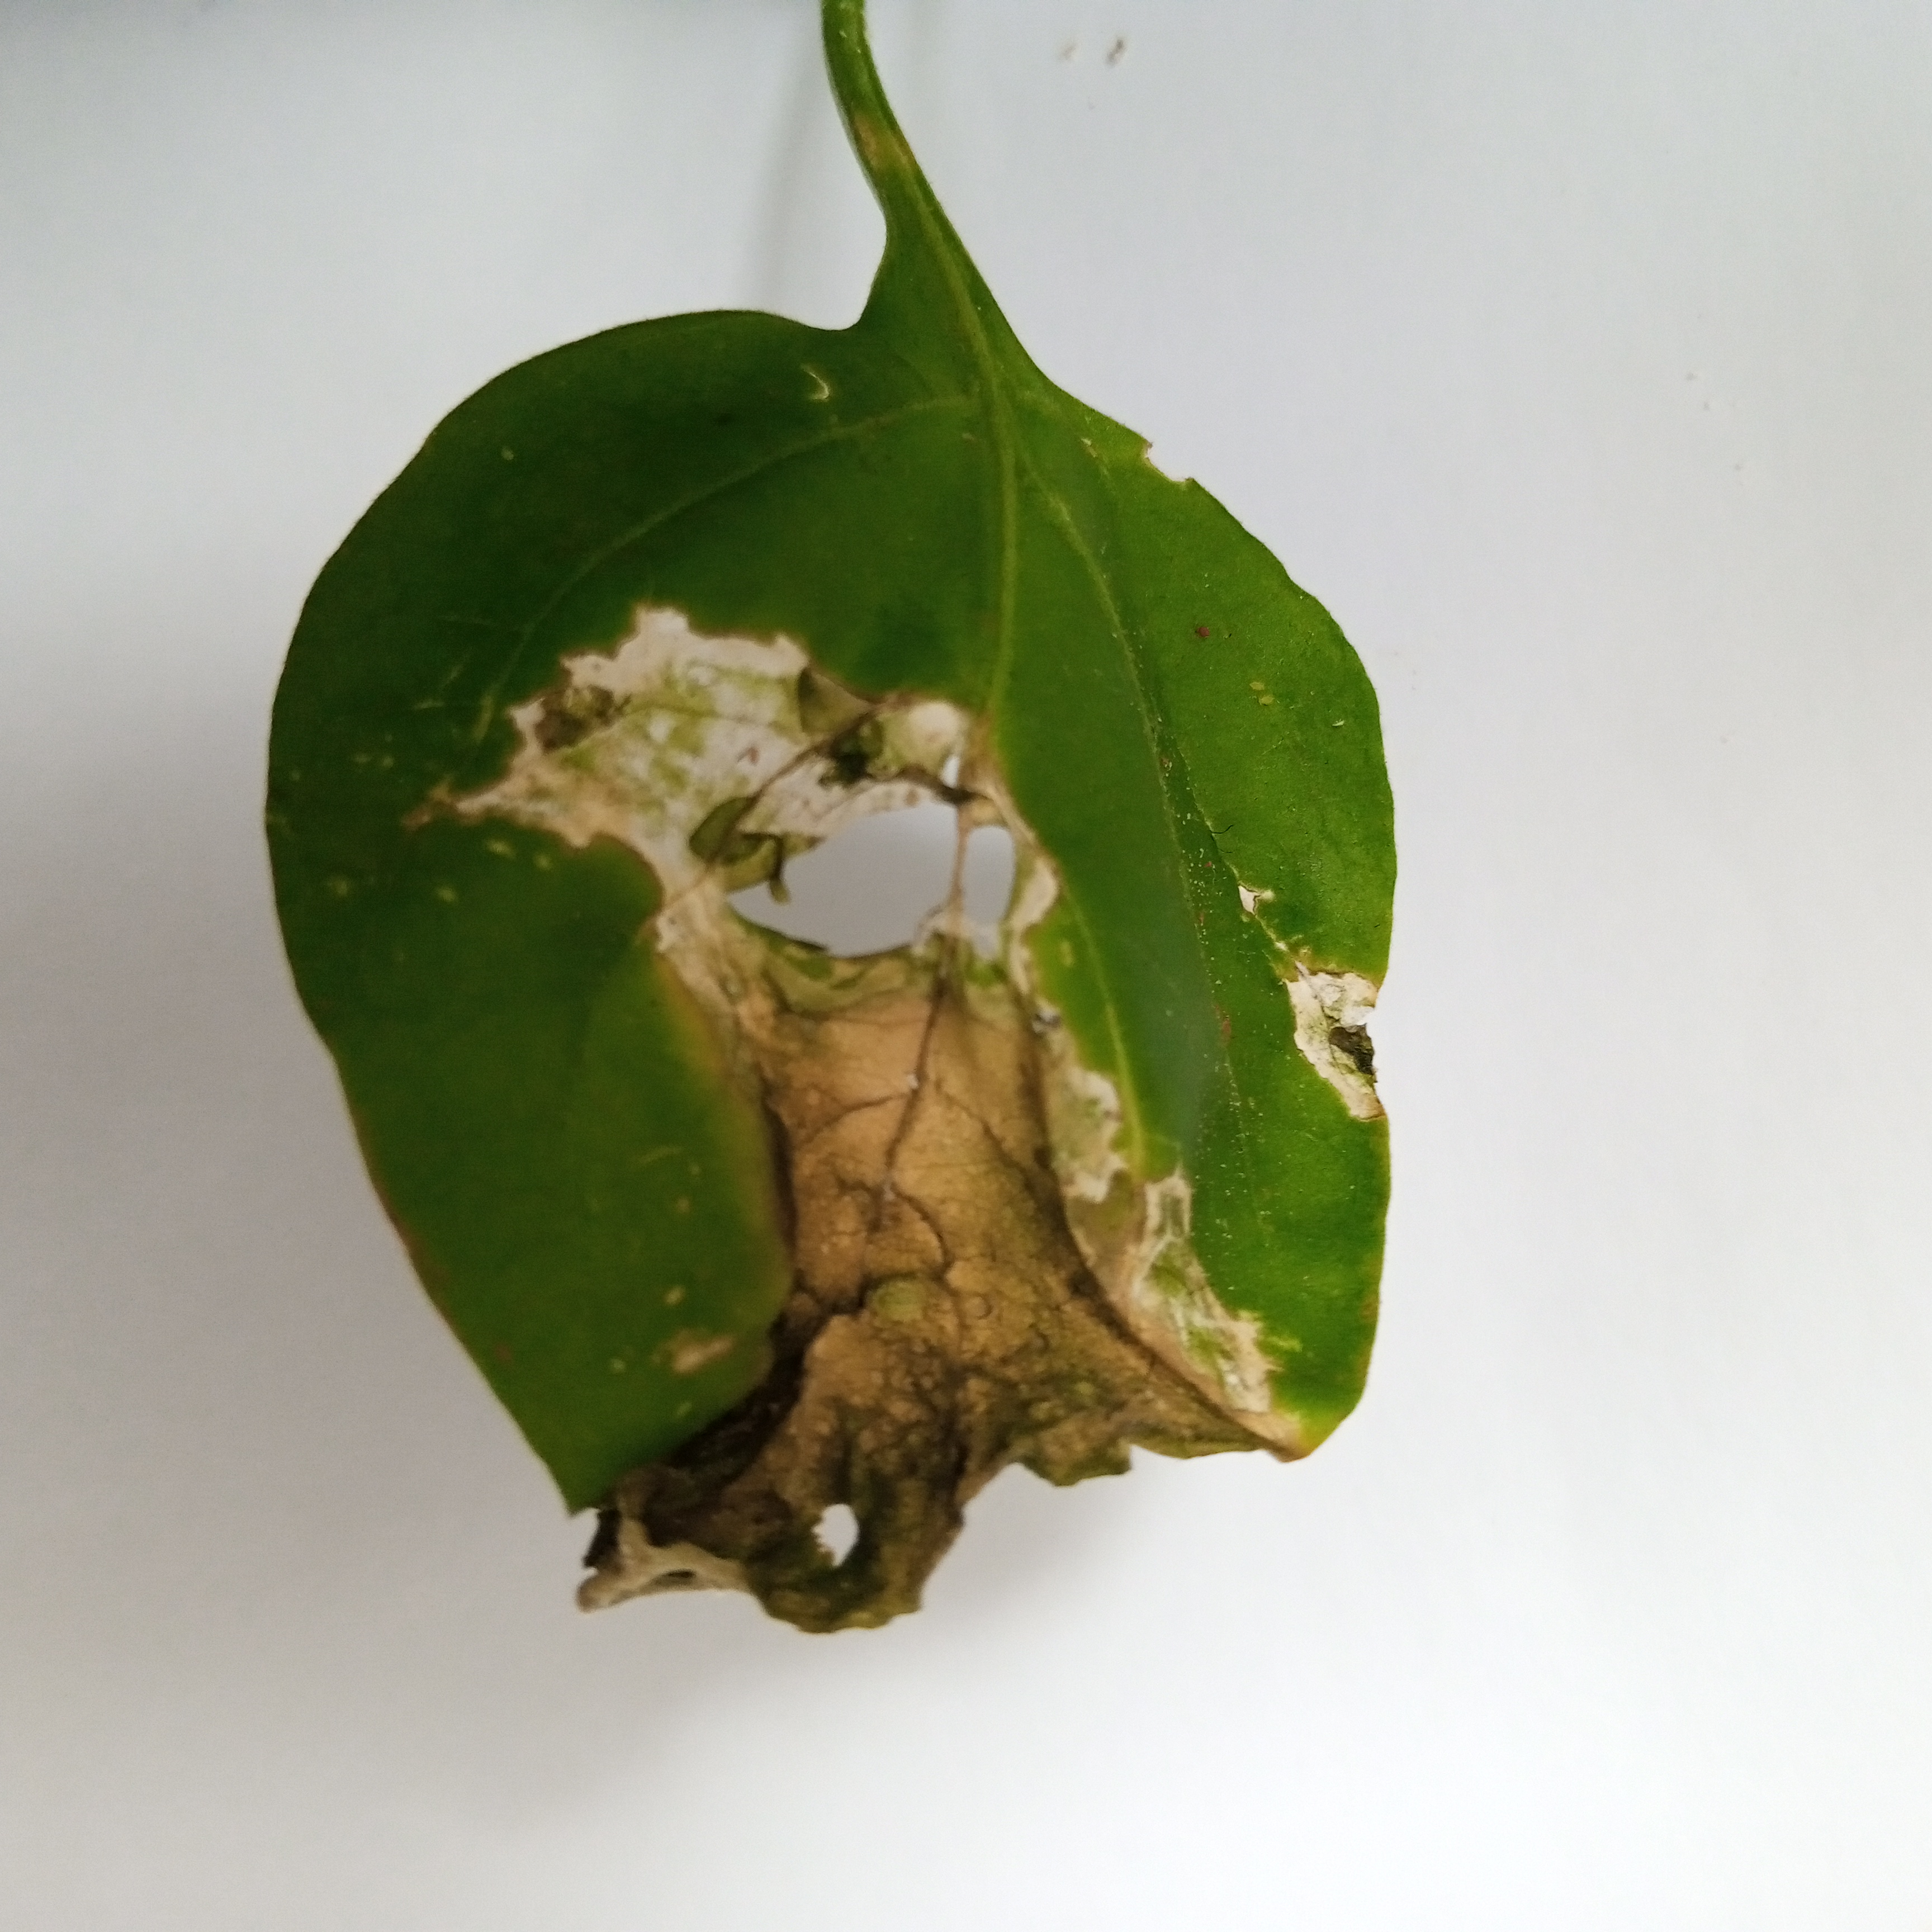Leaf: (142, 198, 1610, 1734)
